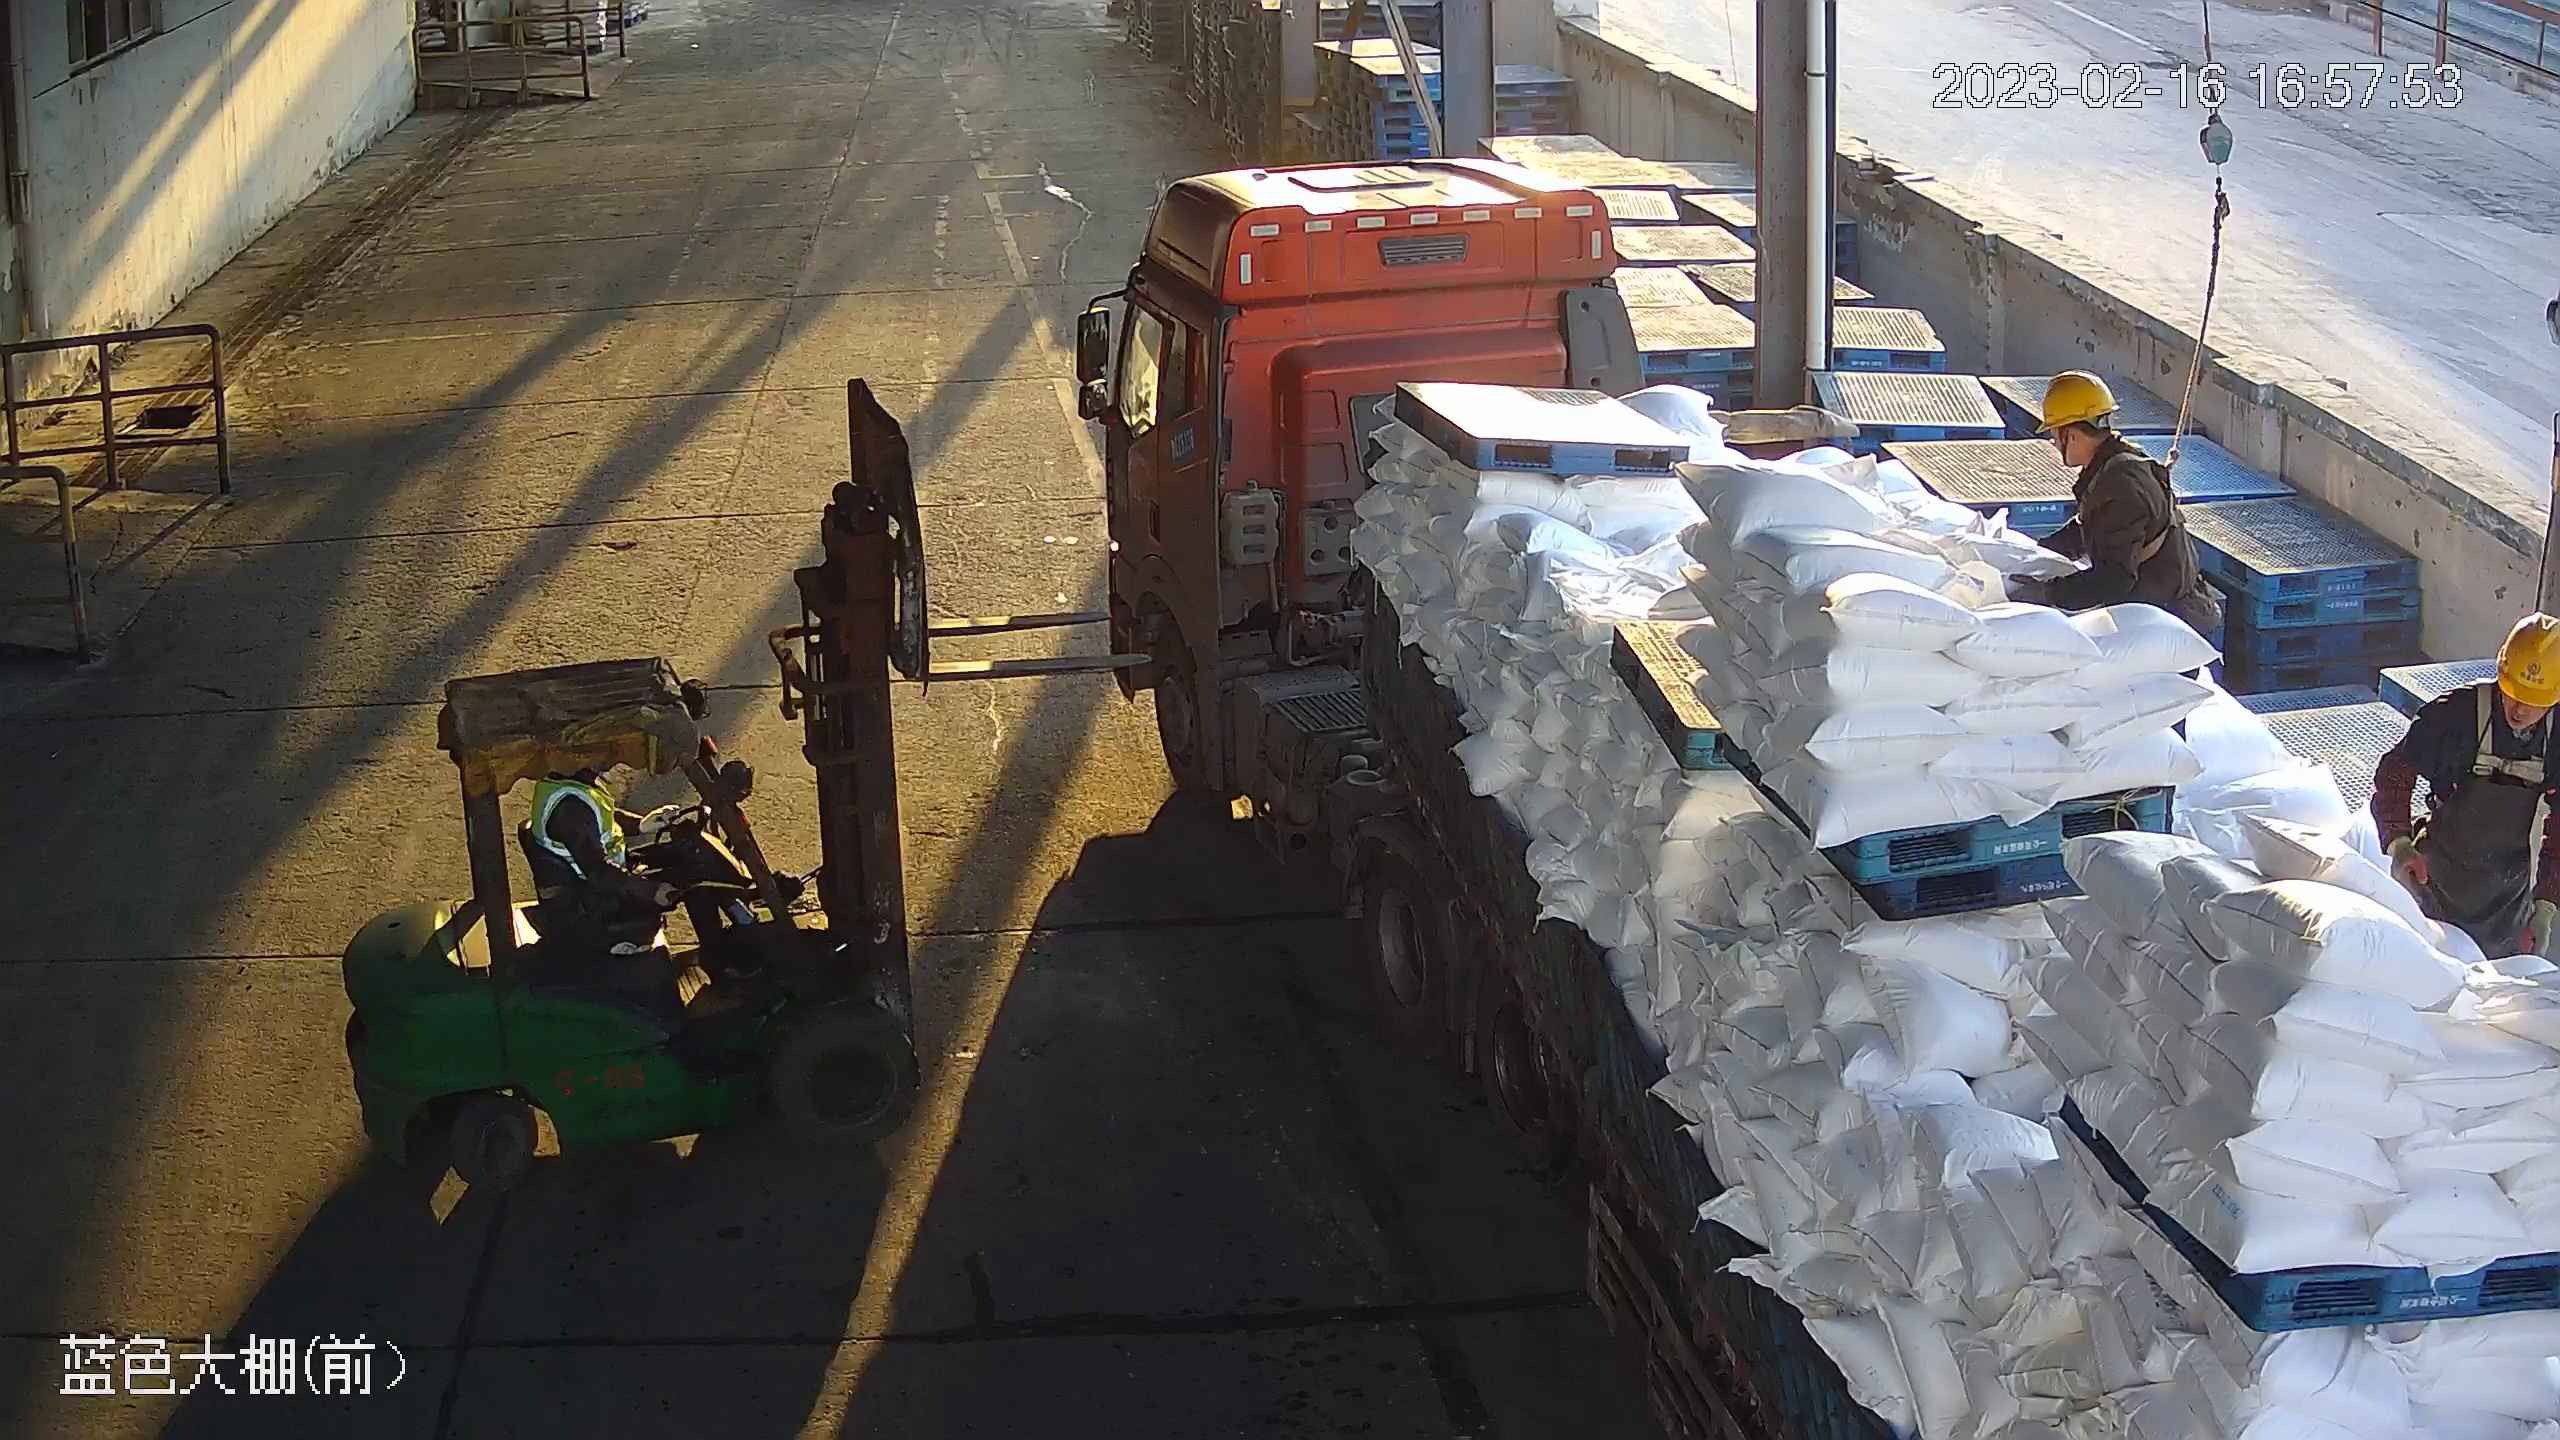belt: (2081, 446, 2189, 565), (2476, 712, 2560, 791)
head: (2413, 604, 2560, 792), (2035, 373, 2172, 543)
helmet: (2025, 369, 2116, 434), (2504, 608, 2560, 708)
people: (532, 762, 797, 983)
truck: (1072, 153, 2560, 1440)
